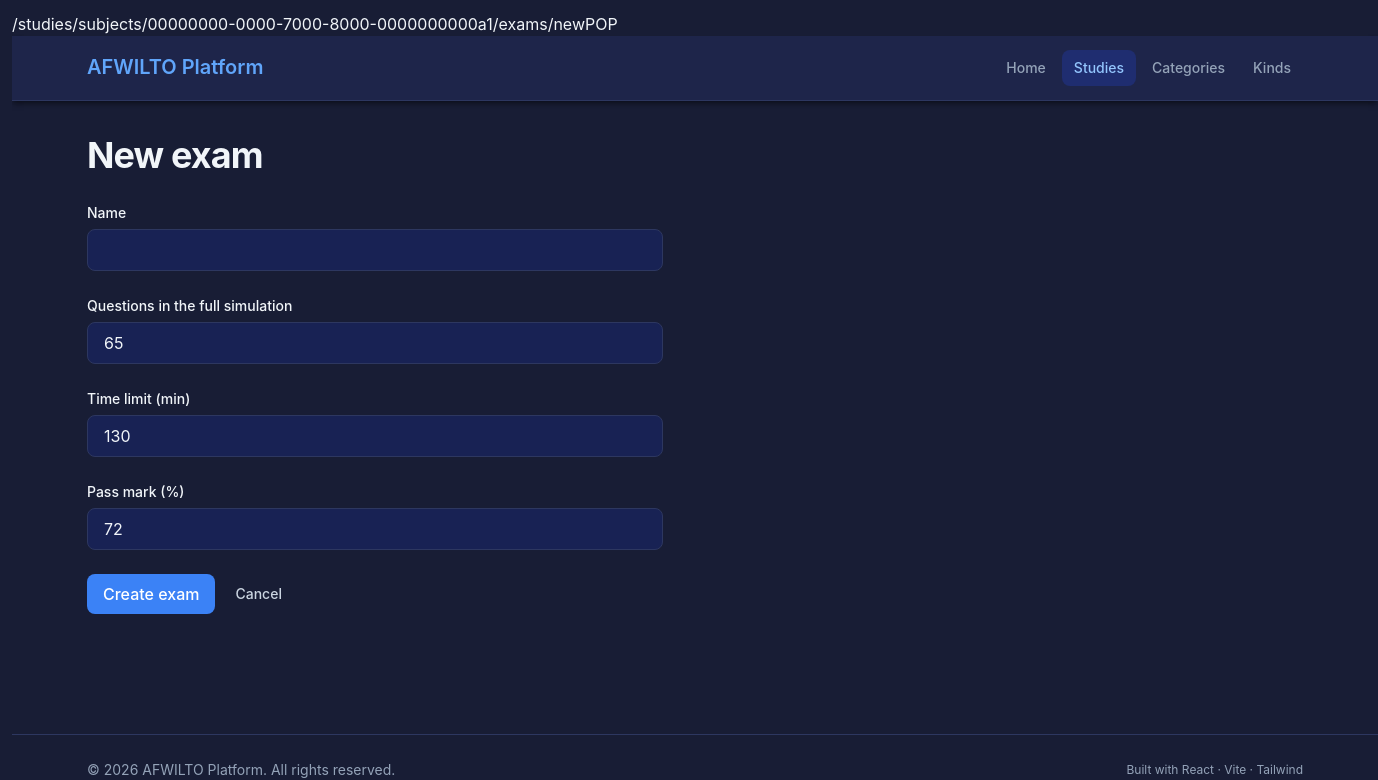
Test: NewExamPage (S08-1) › a 422 invalid_text on the name and a range on the count land on their fields
Expected: the heading "New exam" is shown, [87,133,263,178]
Type "AIF-C01" into the field labelled "Name" at [375, 250], box [87,229,663,271]
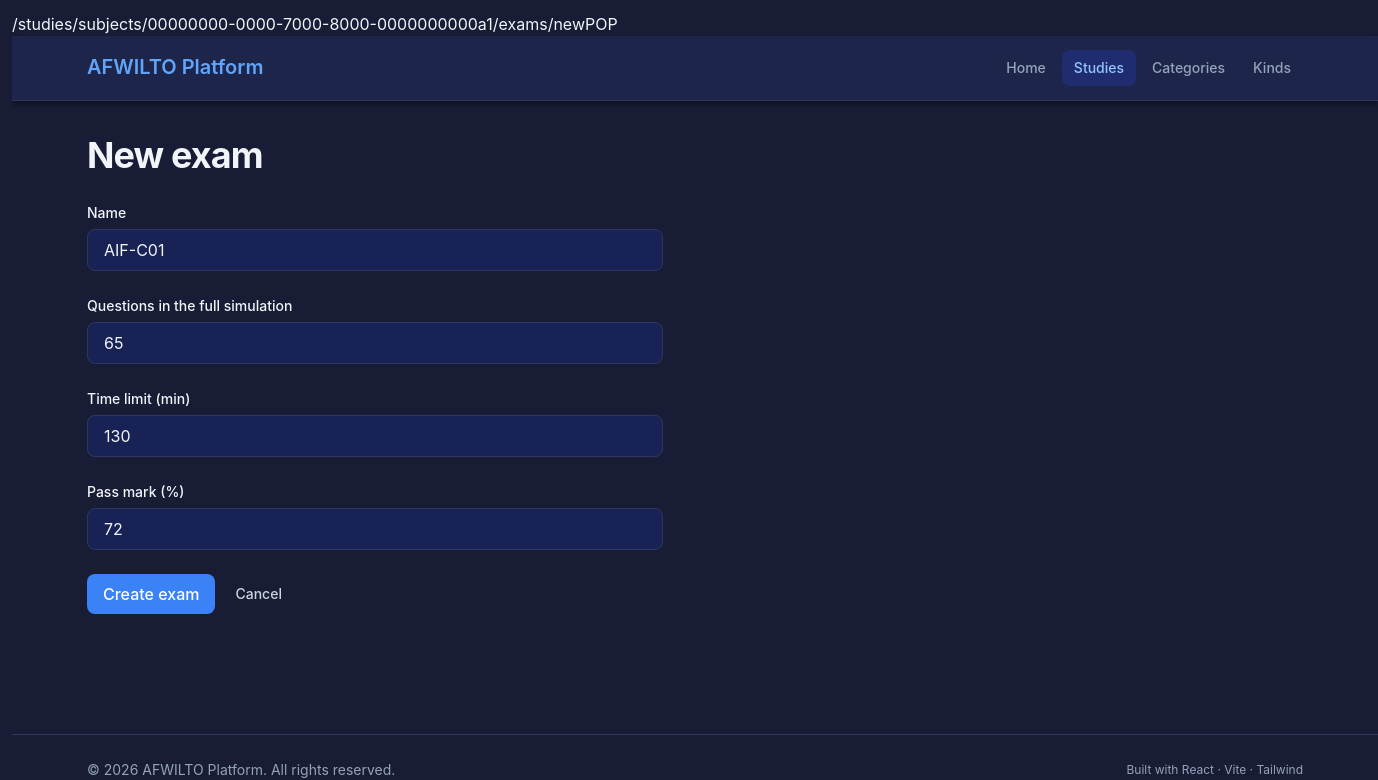
Click the button "Create exam" at [151, 594], box [87,574,216,614]
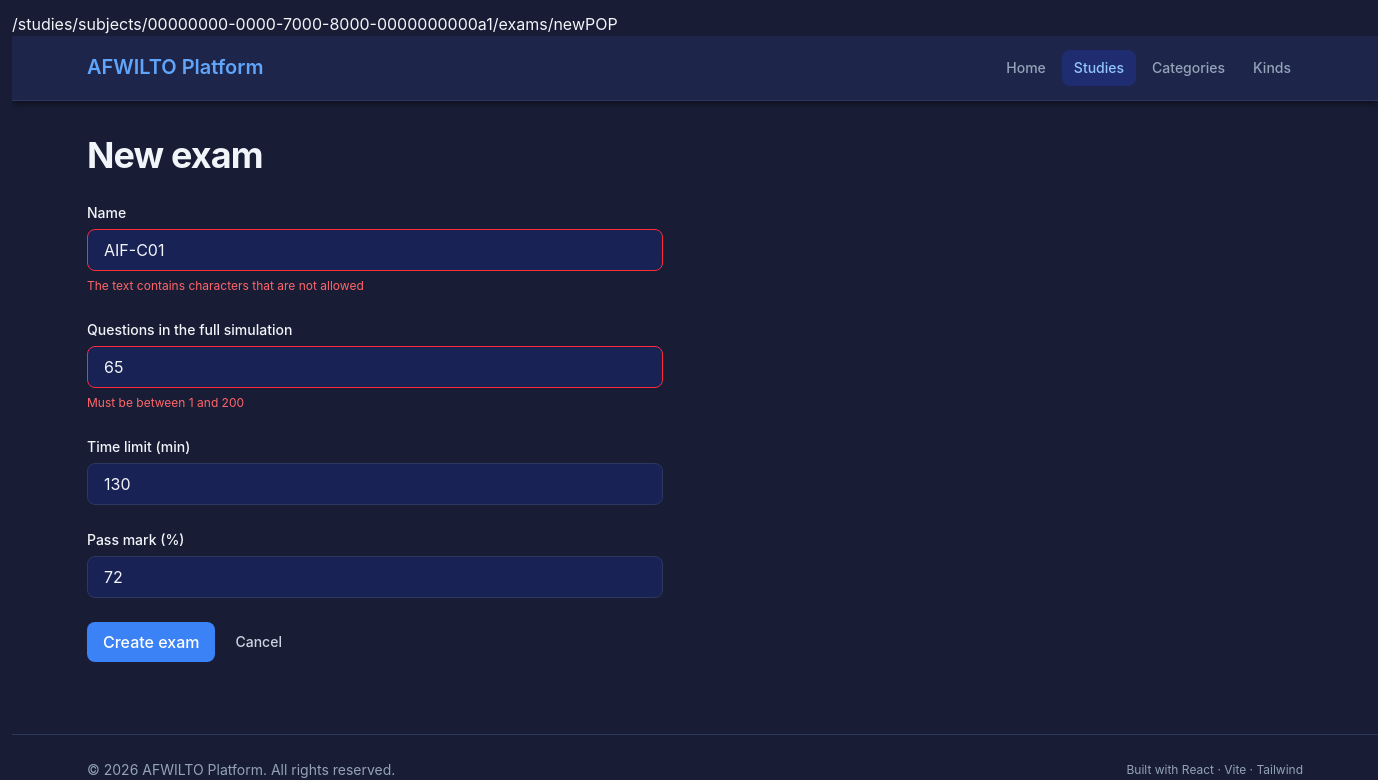
Expected: the text "The text contains characters that are not allowed" is shown, [87,278,364,293]
Expected: the text "Must be between 1 and 200" is shown, [87,395,244,410]
